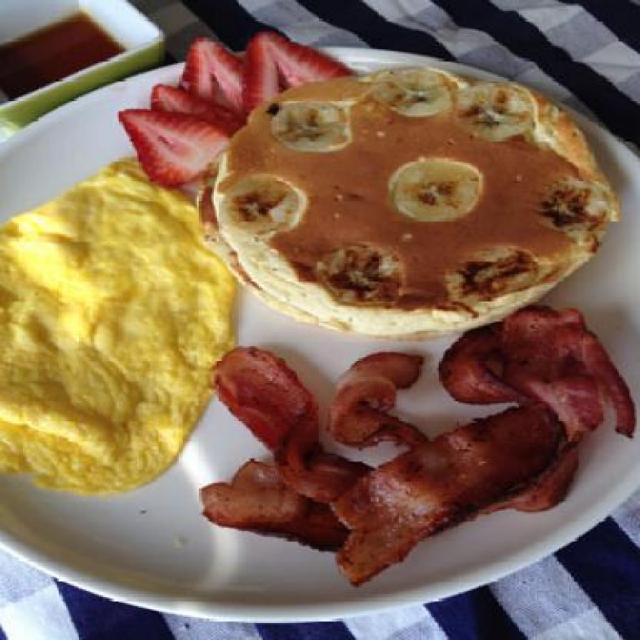omelette: (2, 166, 226, 494)
pancakes: (210, 74, 601, 321)
